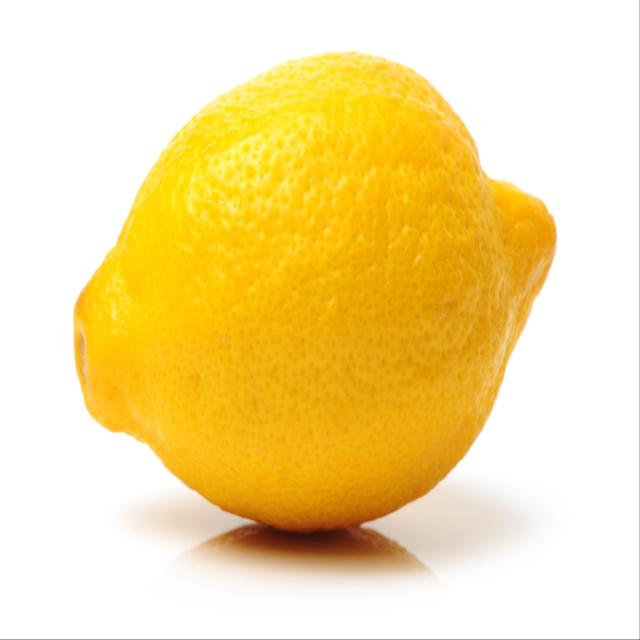lemon: (70, 42, 560, 538)
